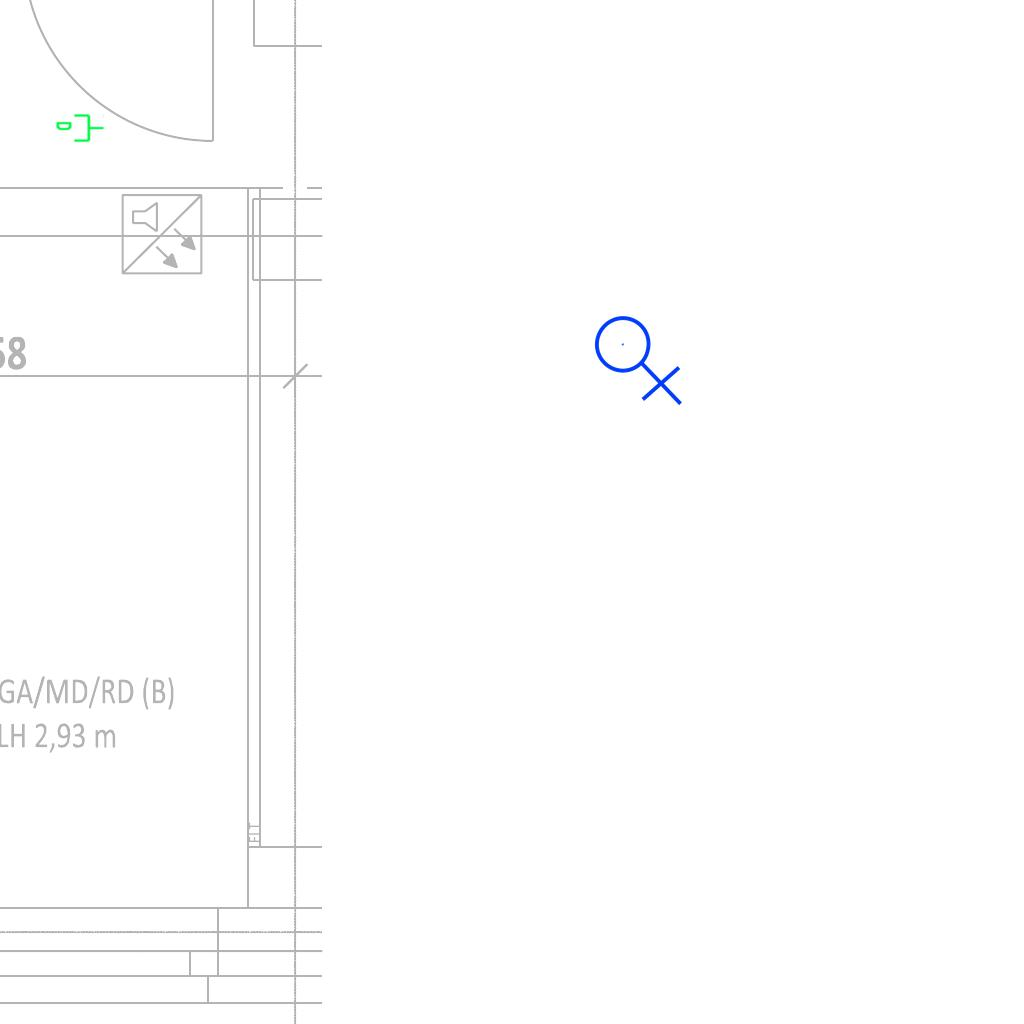Datenanschluss_einfach: (55, 112, 105, 146)
Elektroanschluss_allgemein_230V_Geraeteanschlussdose_230V: (593, 307, 687, 406)
